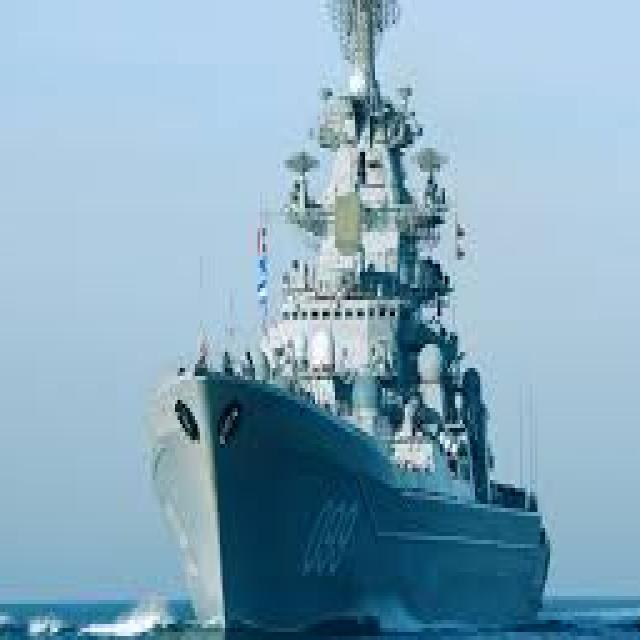navalvessels: (148, 0, 560, 636)
